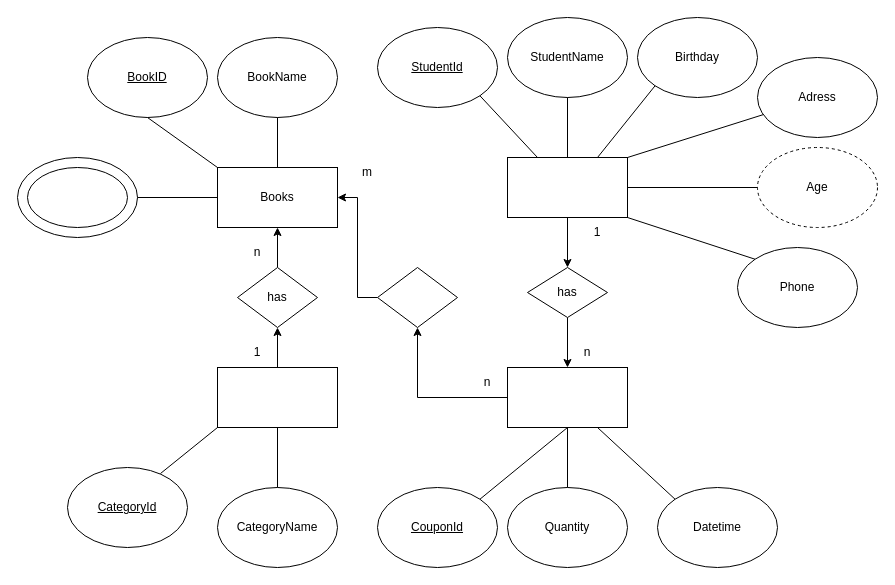
This 895x585 diagram has some shape labels left out. The shapes that lost their labels are listed below. From the top down, each one's box as (x1, y1, x2, y2) in pixels, then its label:
(16, 156, 138, 238): Author
(506, 156, 628, 218): Students
(376, 266, 458, 328): borrow
(216, 366, 338, 428): Categories
(506, 366, 628, 428): Coupon
